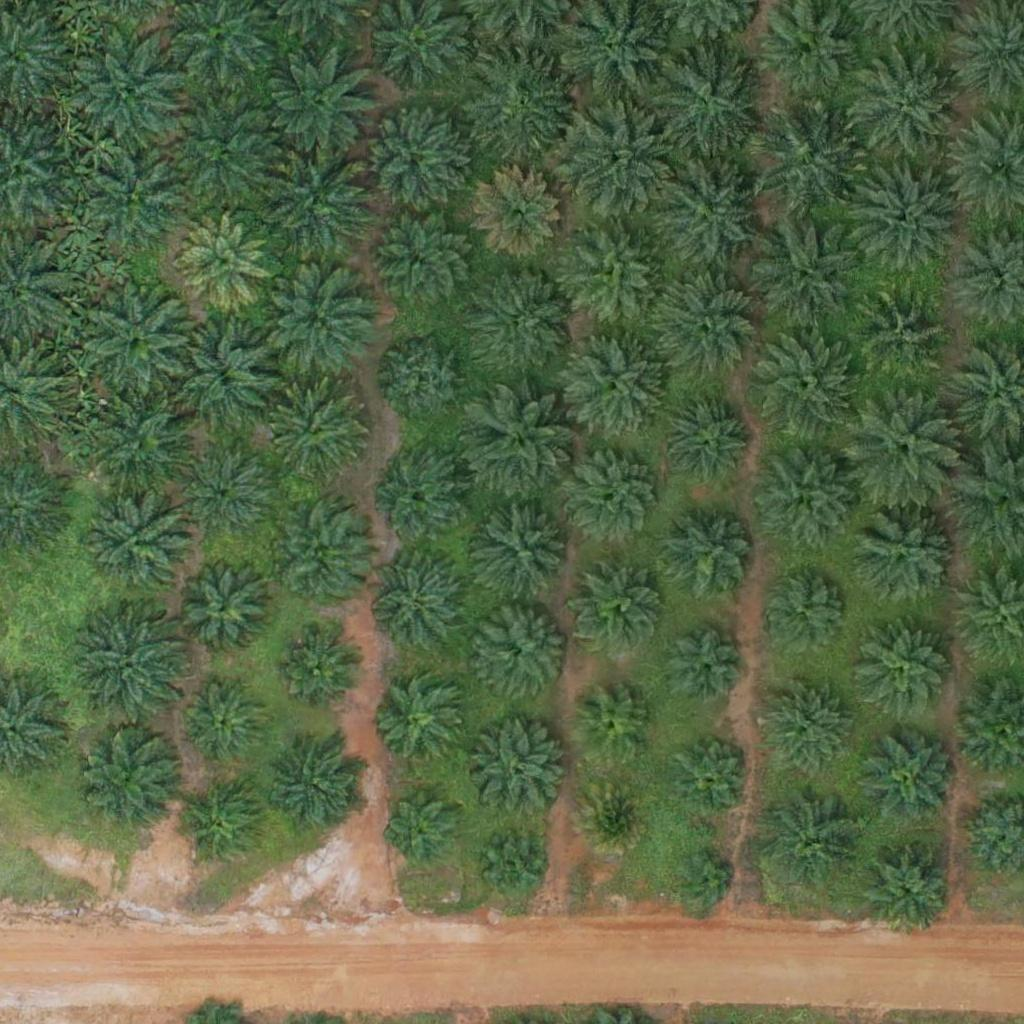Kelapa_Sawit: (171, 101, 284, 215), (263, 46, 376, 160), (260, 269, 373, 383), (561, 104, 674, 217), (854, 54, 967, 167), (653, 157, 766, 270), (75, 609, 188, 722), (261, 144, 374, 257), (76, 34, 188, 148), (84, 284, 196, 398), (169, 318, 281, 432), (467, 49, 579, 162), (649, 43, 761, 156), (750, 103, 862, 216), (848, 390, 960, 503), (747, 329, 859, 442), (847, 157, 959, 270), (751, 216, 863, 329), (469, 392, 581, 505), (855, 505, 955, 606), (854, 621, 954, 722), (758, 449, 858, 550), (655, 271, 755, 372), (566, 222, 666, 323), (90, 397, 190, 498), (92, 500, 192, 601), (373, 208, 473, 309), (475, 268, 575, 369), (268, 736, 368, 837), (81, 722, 181, 823), (365, 108, 465, 208), (857, 838, 957, 938), (763, 788, 863, 888), (565, 334, 665, 434), (563, 445, 663, 545), (79, 148, 179, 248), (267, 384, 367, 484), (271, 516, 371, 616), (473, 602, 573, 702), (469, 720, 569, 820), (858, 291, 946, 380), (178, 778, 266, 867), (576, 565, 664, 653), (473, 169, 561, 257), (176, 448, 264, 536), (178, 565, 266, 653), (479, 505, 567, 593), (280, 626, 368, 714), (181, 677, 269, 765), (867, 734, 954, 822), (761, 565, 848, 653), (763, 677, 850, 765), (660, 395, 747, 483), (666, 514, 753, 602), (180, 214, 267, 302), (381, 336, 468, 424), (382, 454, 469, 542), (373, 560, 460, 648), (379, 679, 466, 767), (576, 690, 651, 766), (666, 629, 741, 705), (673, 738, 748, 814), (577, 779, 652, 855), (475, 828, 550, 904), (385, 787, 460, 862), (675, 851, 737, 914)
